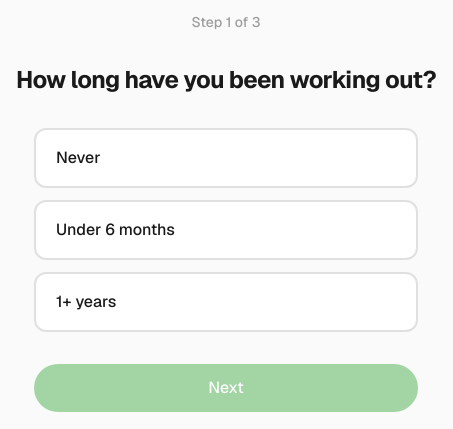
Scenario: Onboarding Quiz › goes back to the previous question when Back is clicked
What coordinates should you click on to do the following:
click the button "Never"
I would click on:
 (78, 158)
Its box is [34, 128, 418, 188].
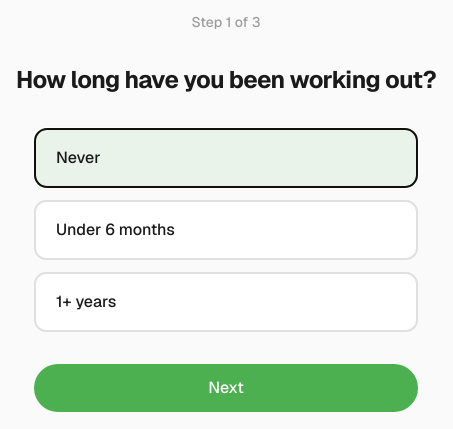
What coordinates should you click on to do the following:
click the button "Next"
I would click on:
 (226, 388)
Its box is [34, 364, 418, 412].
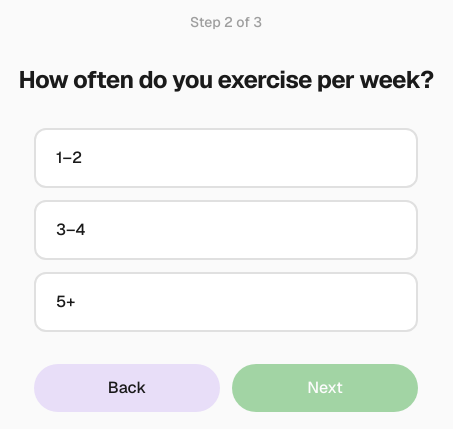
What coordinates should you click on to do the following:
click the button "Back"
I would click on:
 (127, 388)
Its box is [34, 364, 220, 412].
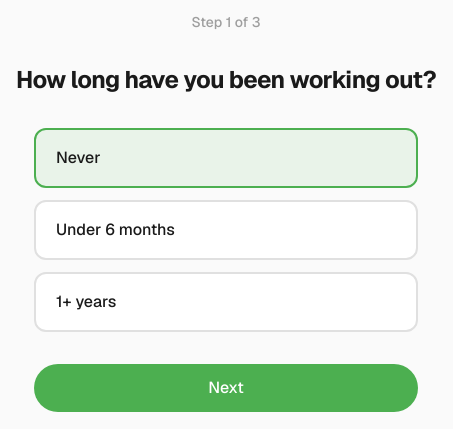
Result: the heading "How long have you been working out?" is shown at [16, 64, 436, 96]
